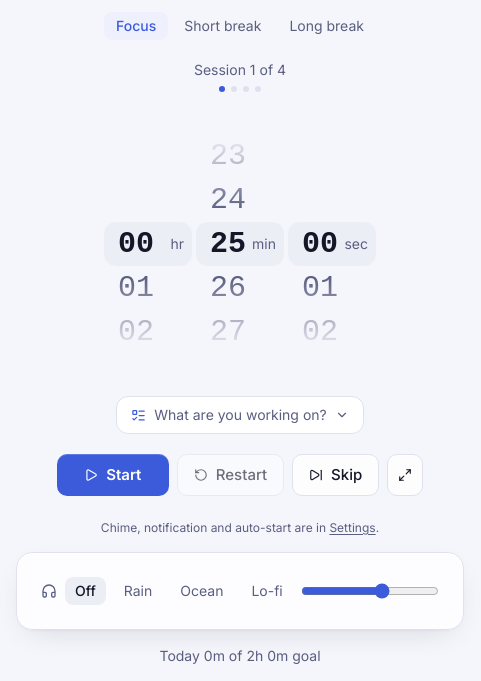
Scenario: the Focus page › swaps the drums for the countdown once the session runs
This screenshot has width=481, height=681.
(page scrolled)
Click the button "Start". click: (113, 475)
box: left=57, top=454, right=169, bottom=496
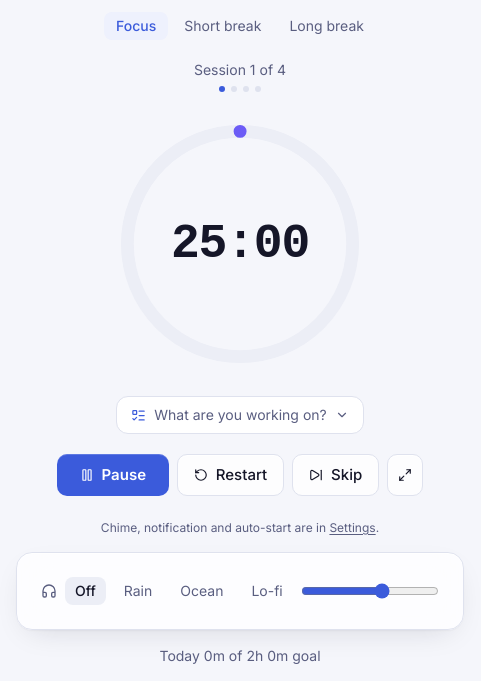
expect the text "25:00" is shown: met, box left=171, top=220, right=309, bottom=268
